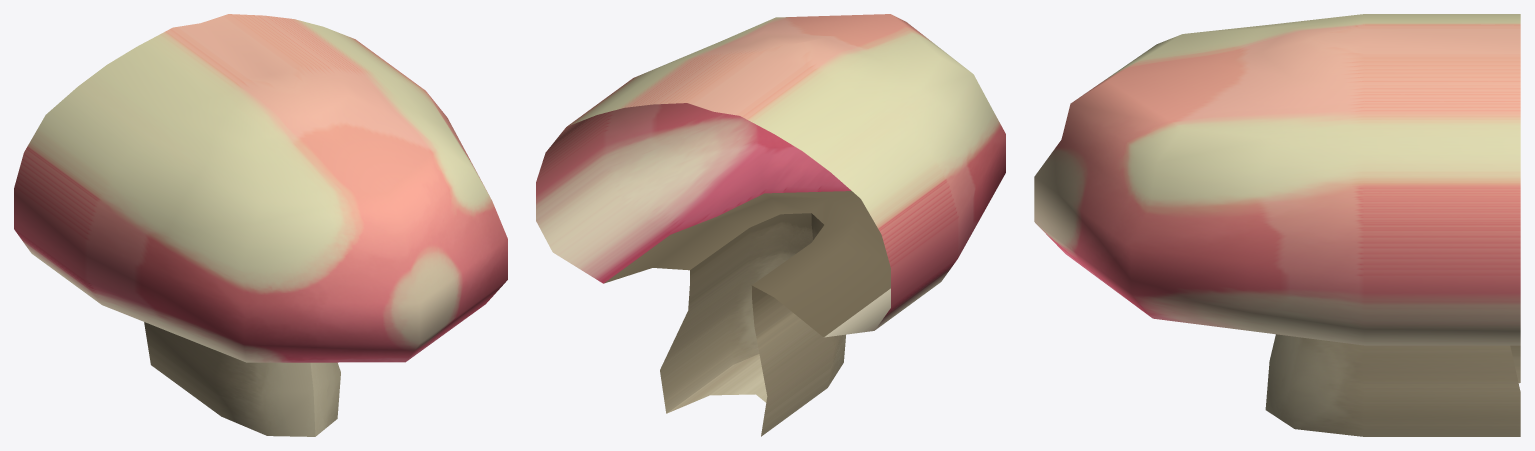
File: 0217_kinoko03.fbx
3 renders of one model, left to right at view 1: azimuth 30°, elevation 25°; view 2: azimuth 150°, elevation 25°; view 3: azimuth 270°, elevation 25°, orthographic. The views are drawn at different scales.
Parts seen in each view (by area): view 1: _0216_kinoko03:cylinder; view 2: _0216_kinoko03:cylinder; view 3: _0216_kinoko03:cylinder.
Part boxes in pixels (box(x1,y1,x2,y2)): _0216_kinoko03:cylinder: box(14, 14, 507, 436); _0216_kinoko03:cylinder: box(536, 14, 1005, 436); _0216_kinoko03:cylinder: box(1034, 14, 1520, 436).
Bounding box in the file's own units: 28.31 × 24.2 × 28.77.
